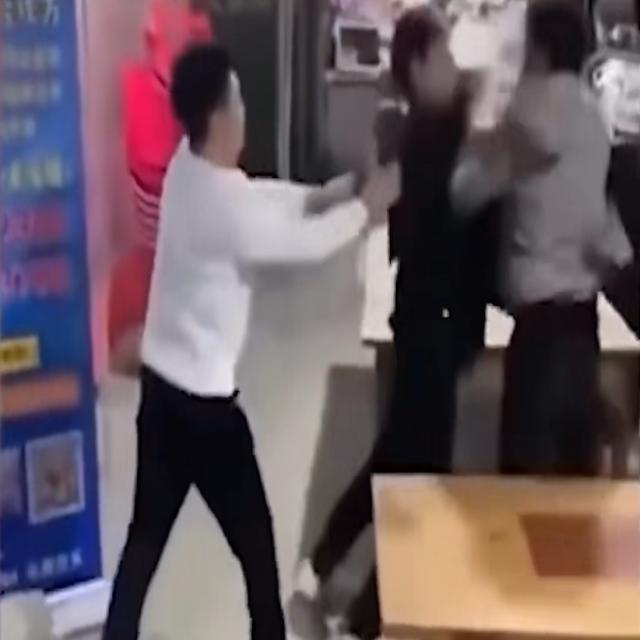fight: (375, 9, 602, 306)
nofight: (133, 30, 319, 640)
